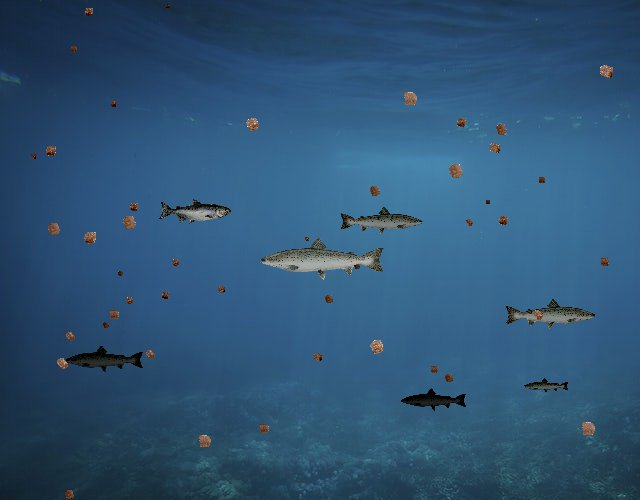Fish: (258, 235, 387, 281), (504, 297, 598, 331), (338, 205, 424, 236), (65, 345, 146, 374), (158, 198, 231, 224), (400, 388, 468, 412), (524, 378, 571, 395)
Pellet: (238, 111, 266, 139), (50, 351, 75, 376), (27, 151, 39, 163)
